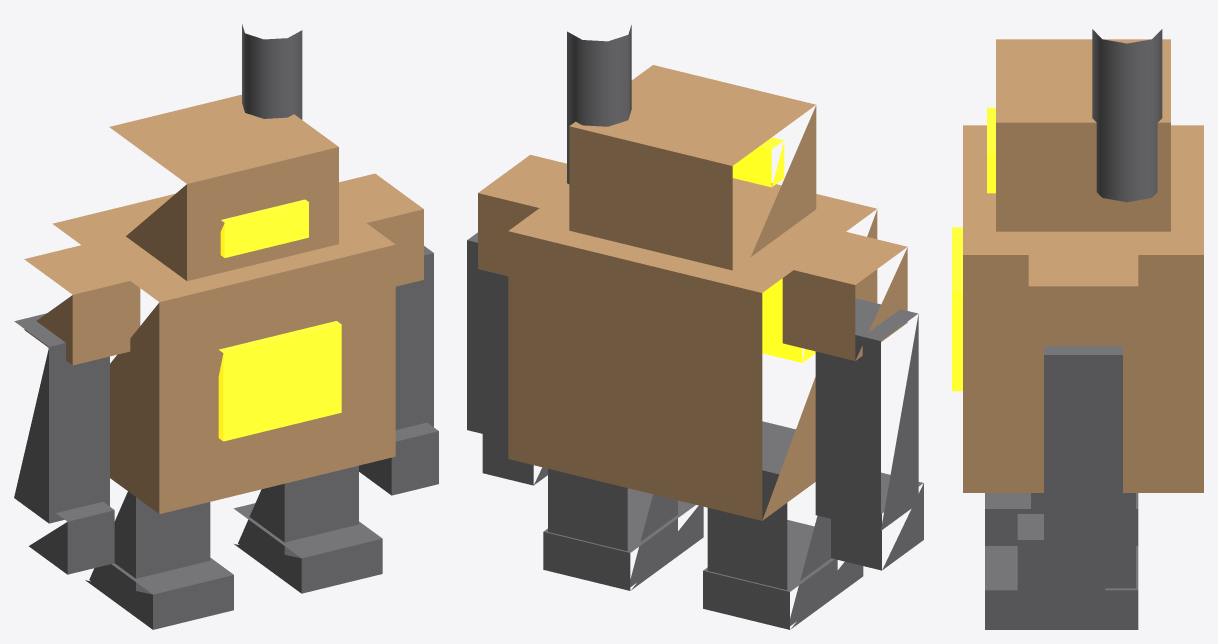
Rendered from golem_steam.glb.
3 views of the same model, side by side, from view 1: azimuth 30°, elevation 25°; view 2: azimuth 150°, elevation 25°; view 3: azimuth 270°, elevation 25° (orthographic). The views are drawn at different scales.
Visible parts, largest first — view 1: SteamBody, SteamIron, SteamGlow; view 2: SteamBody, SteamIron, SteamGlow; view 3: SteamBody, SteamIron, SteamGlow.
Part boxes in pixels (x1=…): SteamBody: x1=24, y1=94, x2=423, y2=514; SteamIron: x1=14, y1=24, x2=438, y2=629; SteamGlow: x1=218, y1=199, x2=341, y2=441; SteamBody: x1=478, y1=65, x2=907, y2=520; SteamIron: x1=467, y1=25, x2=923, y2=629; SteamGlow: x1=732, y1=137, x2=815, y2=362; SteamBody: x1=963, y1=39, x2=1203, y2=492; SteamIron: x1=985, y1=29, x2=1162, y2=629; SteamGlow: x1=952, y1=107, x2=995, y2=391.
Size of the model in its own units: 1.14 by 1.45 by 0.575.
